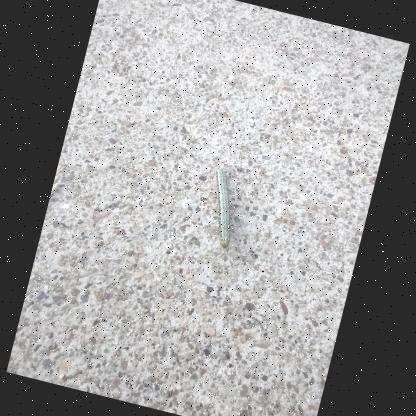Fall Armyworm Larvae: (196, 167, 248, 252)
